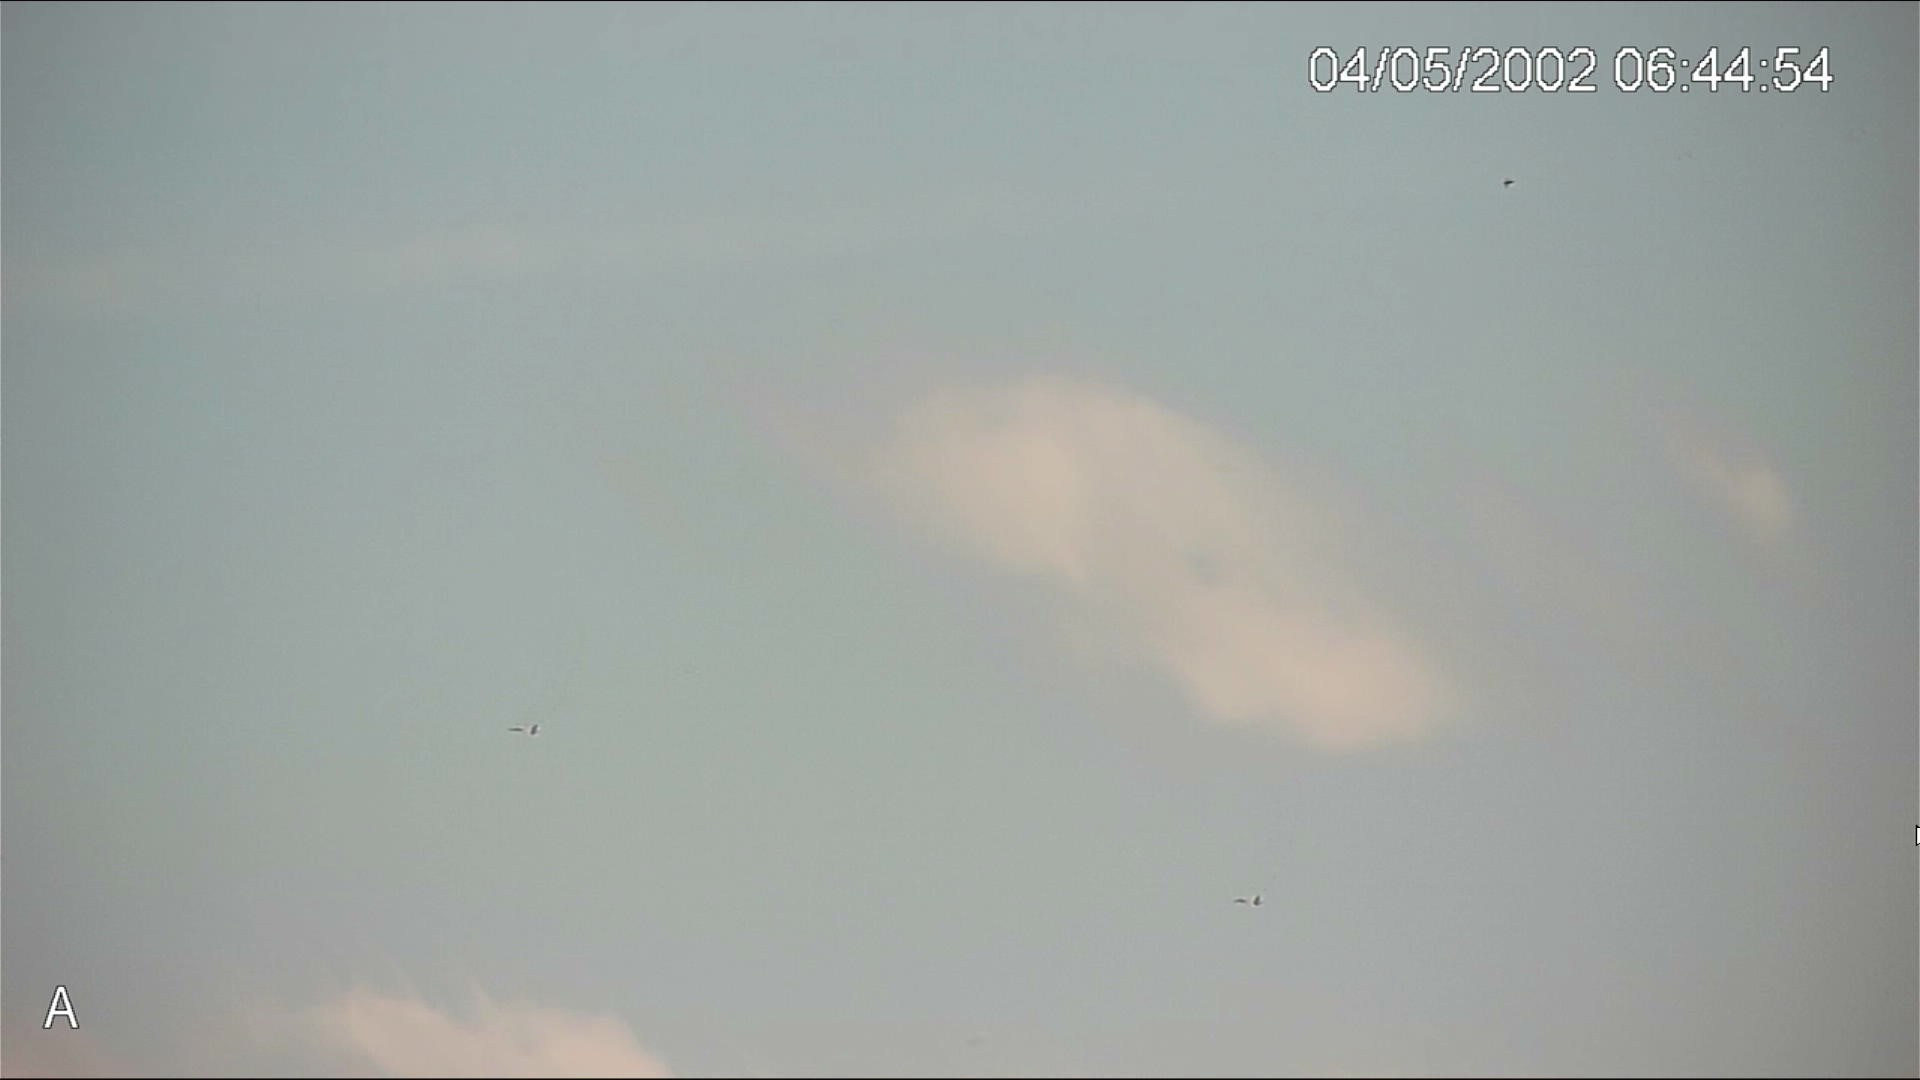SU_30: (505, 719, 541, 738), (1233, 893, 1261, 909)
